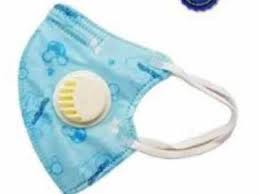flumask: (20, 13, 144, 174)
